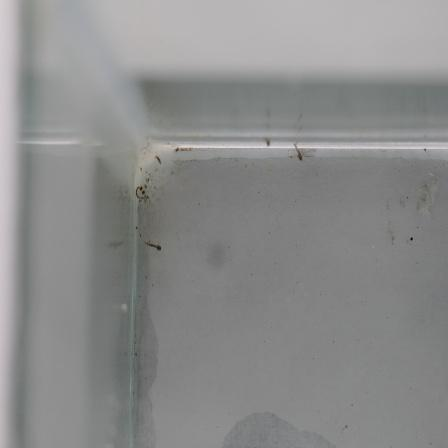Jentik-Nyamuk: (138, 236, 168, 254), (131, 184, 153, 202), (291, 141, 305, 164)
